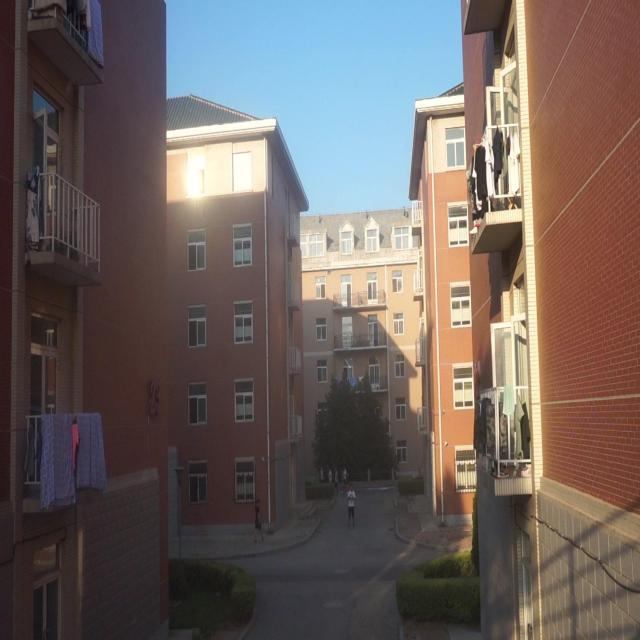UAV: (326, 268, 334, 275)
